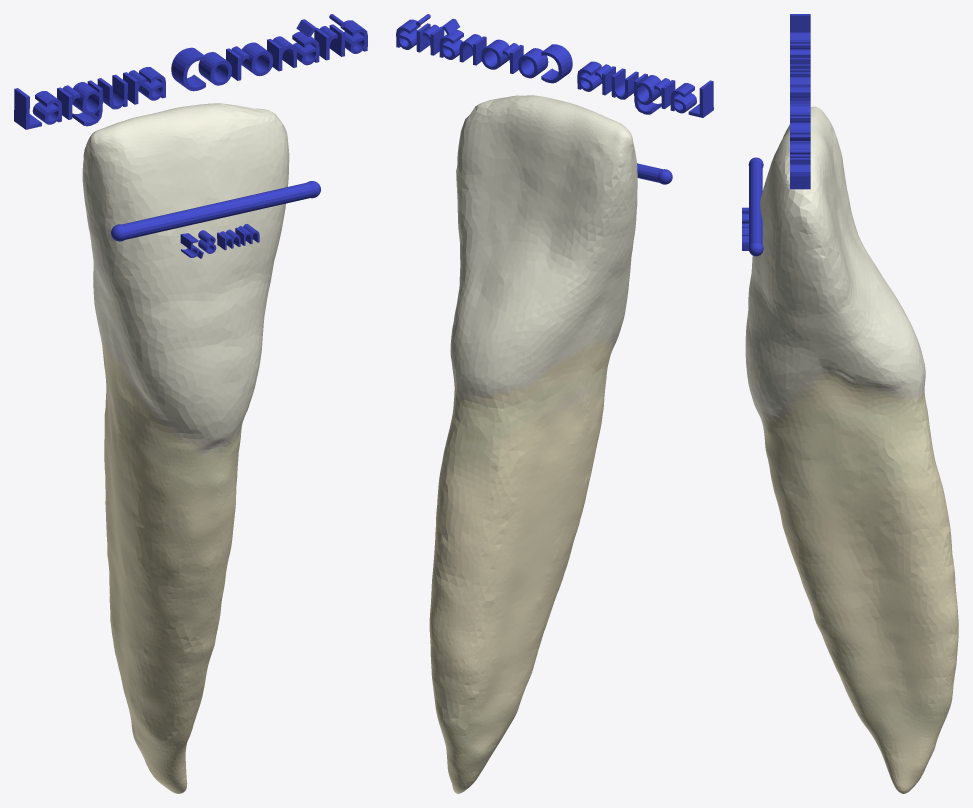
The model's file is 32 - Largura Coronária.glb.
3 renders of one model, left to right at view 1: azimuth 30°, elevation 25°; view 2: azimuth 150°, elevation 25°; view 3: azimuth 270°, elevation 25°, orthographic. The views are drawn at different scales.
Visible parts, largest first — view 1: 3MFMeshParent_0, 3MFMeshParent_2, 3MFMeshParent_3, 3MFMeshParent_1; view 2: 3MFMeshParent_0, 3MFMeshParent_2; view 3: 3MFMeshParent_0, 3MFMeshParent_2, 3MFMeshParent_3.
Part boxes in pixels (x1,y1,x2,y2): 3MFMeshParent_0: (82, 103, 289, 793); 3MFMeshParent_2: (14, 14, 367, 129); 3MFMeshParent_3: (122, 182, 313, 239); 3MFMeshParent_1: (180, 224, 259, 258); 3MFMeshParent_0: (429, 95, 637, 793); 3MFMeshParent_2: (396, 14, 713, 117); 3MFMeshParent_0: (745, 106, 958, 793); 3MFMeshParent_2: (790, 14, 810, 189); 3MFMeshParent_3: (749, 160, 762, 245).
Bounding box in the file's own units: 0.2479 × 0.5525 × 0.1578.
Materials: 2 (1 with a texture image).
